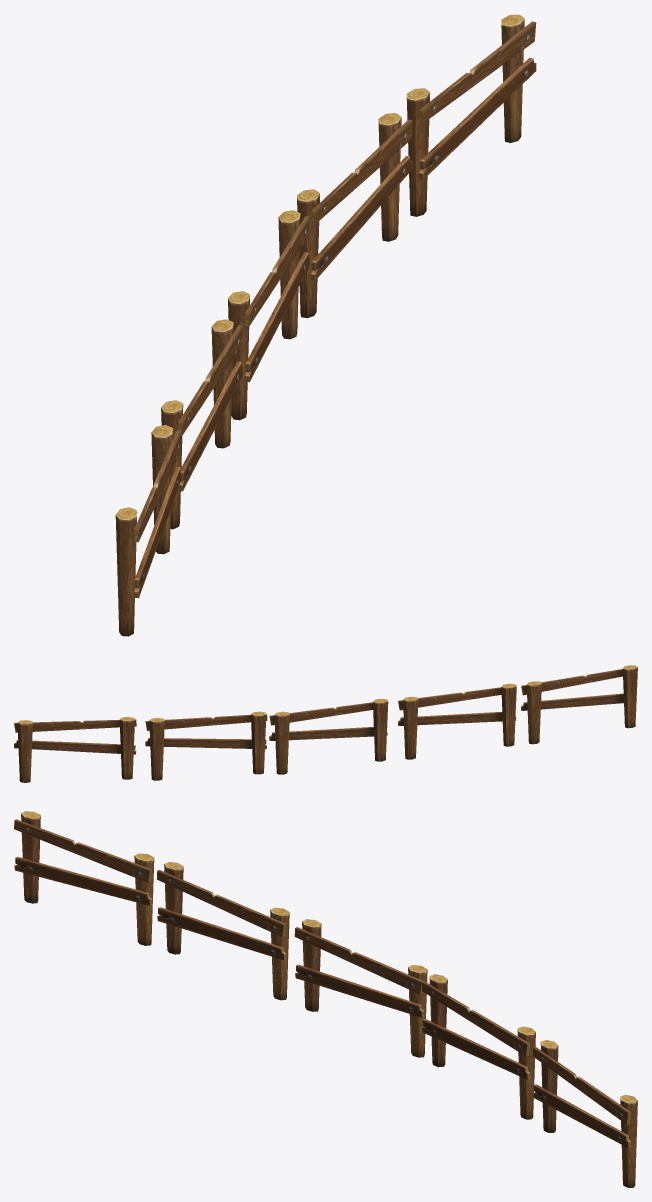
The model's file is Area_06_38.fbx.
3 views of the same model, one above another, from view 1: azimuth 30°, elevation 25°; view 2: azimuth 150°, elevation 25°; view 3: azimuth 270°, elevation 25° (orthographic). The views are drawn at different scales.
Visible parts, largest first — view 1: Area_06_38; view 2: Area_06_38; view 3: Area_06_38.
Part boxes in pixels (left/top/right/bottom): Area_06_38: left=115, top=14, right=536, bottom=636; Area_06_38: left=14, top=665, right=637, bottom=782; Area_06_38: left=14, top=811, right=637, bottom=1187.
Bounding box in the file's own units: 1023 × 142 × 916.
